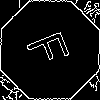F: (25, 25, 79, 70)
